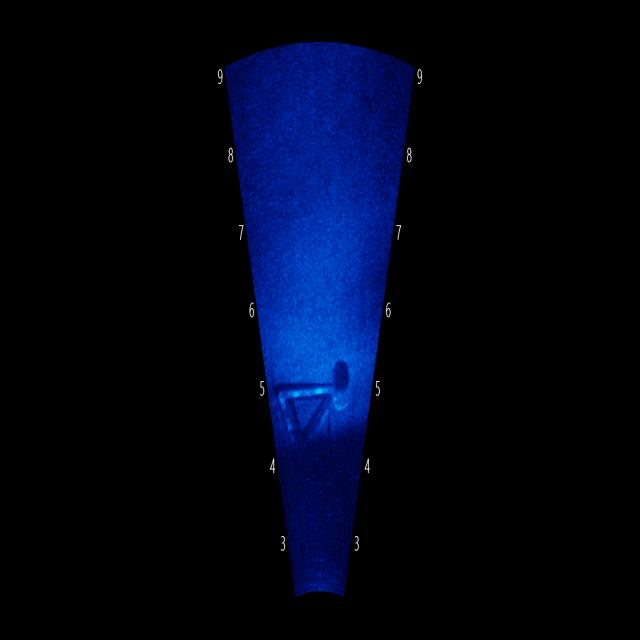triangle: (273, 326, 357, 464)
